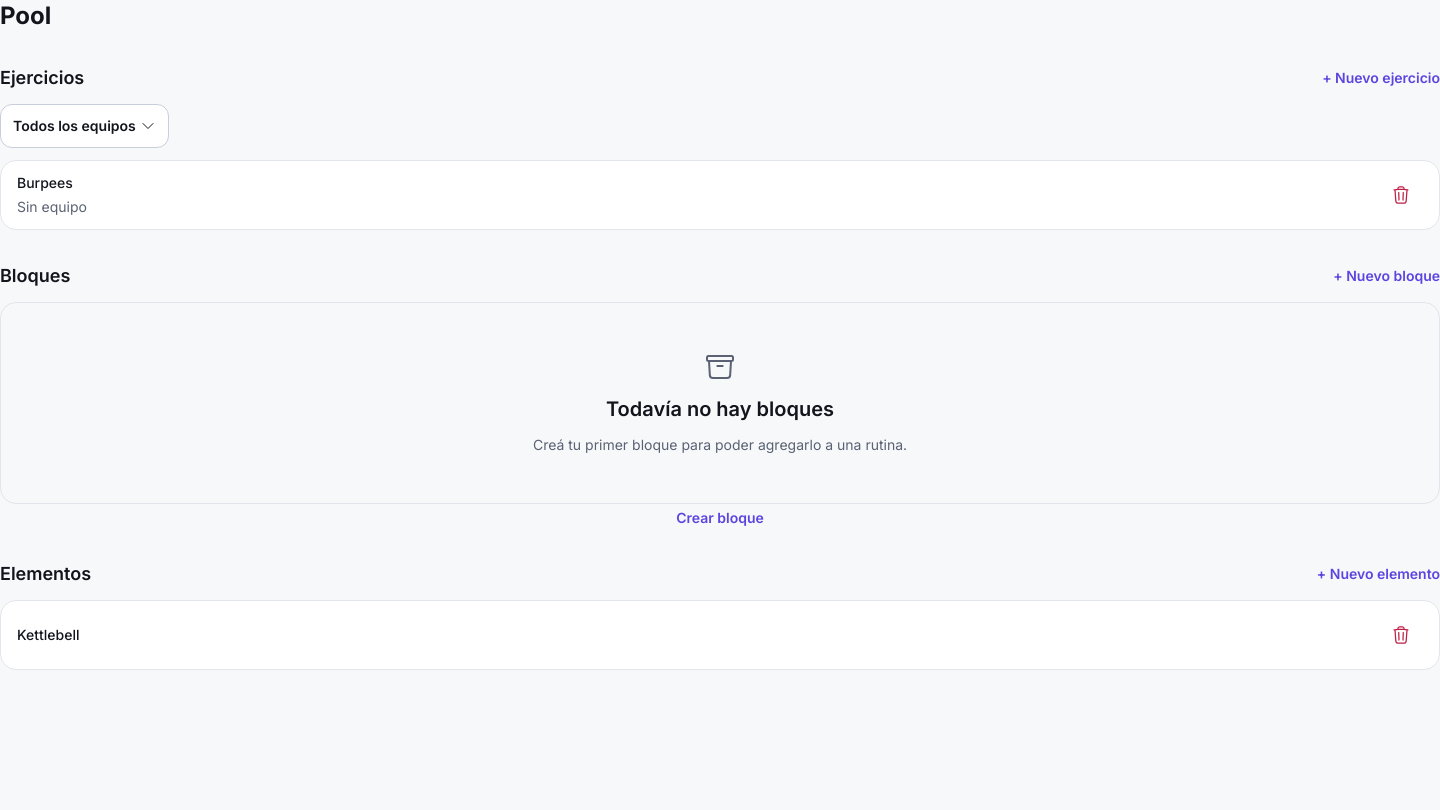
Scenario: PoolPage › filtro sin resultados: mensaje y botón para limpiar
Expected: the text "Burpees" is shown, [17,174,73,191]
Click the button "Todos los equipos": (84, 126) [0,104,169,148]
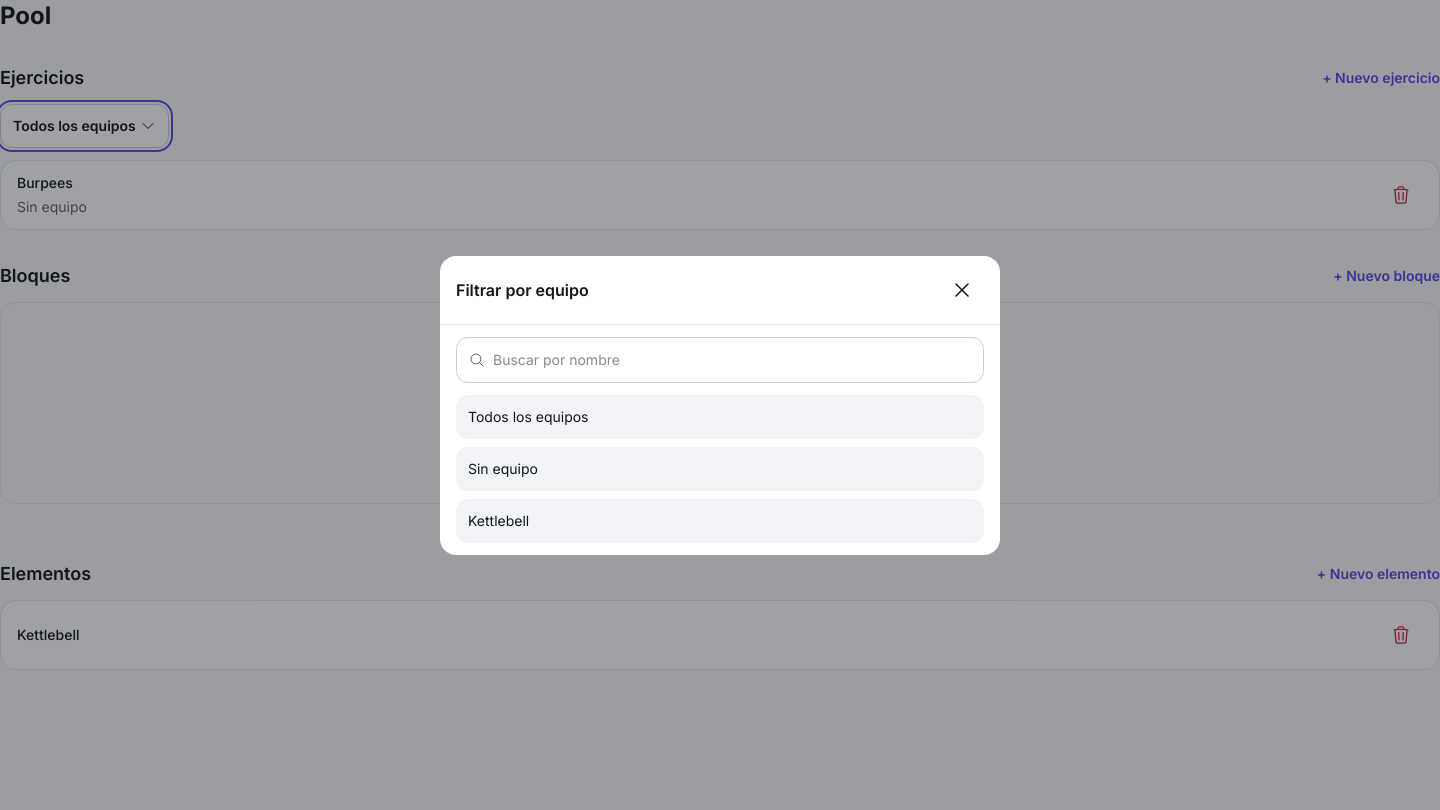
Click the button "Kettlebell": (499, 520) [456,498,984,542]
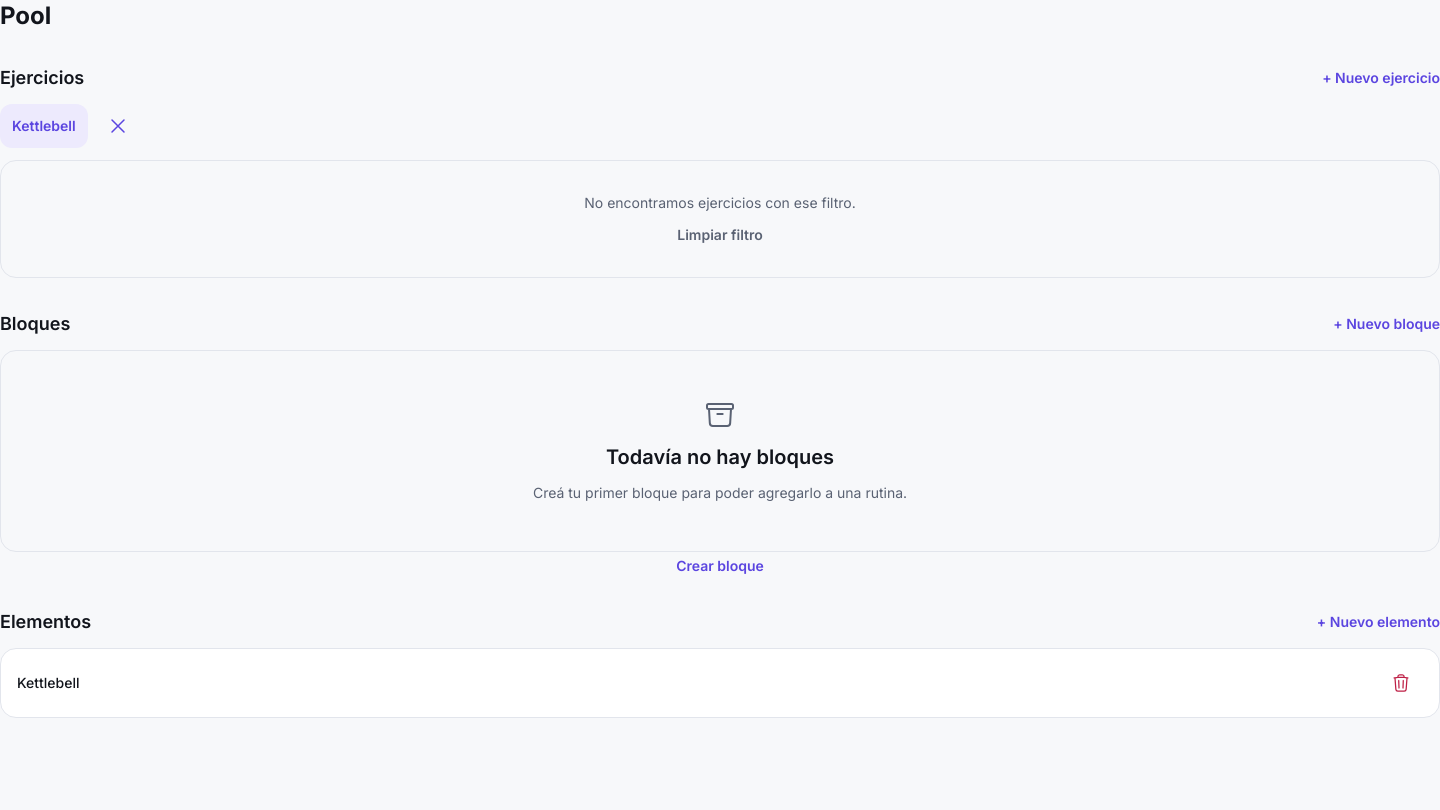
Expected: the text "No encontramos ejercicios con ese filtro." is shown, [584,193,856,213]
Expected: the button "Limpiar filtro" is shown, [677,225,763,245]
Expected: the button "Kettlebell" is shown, [0,104,88,148]
